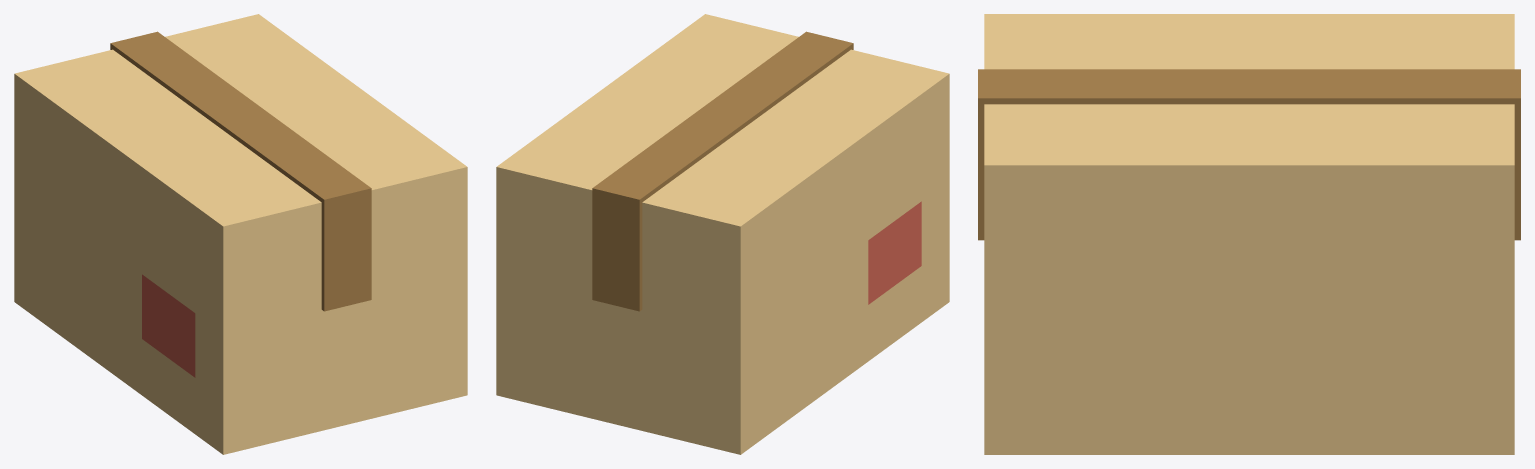
The model's file is Asset014_Packdeitens01_Caixa02.fbx.
3 renders of one model, left to right at view 1: azimuth 30°, elevation 25°; view 2: azimuth 150°, elevation 25°; view 3: azimuth 270°, elevation 25°, orthographic. The views are drawn at different scales.
Visible parts, largest first — view 1: Caixa; view 2: Caixa; view 3: Caixa.
Part boxes in pixels (x1,y1,x2,y2): Caixa: (14, 14, 467, 454); Caixa: (496, 14, 949, 454); Caixa: (978, 14, 1520, 454).
Size of the model in its own units: 88.74 by 80.86 by 135.
